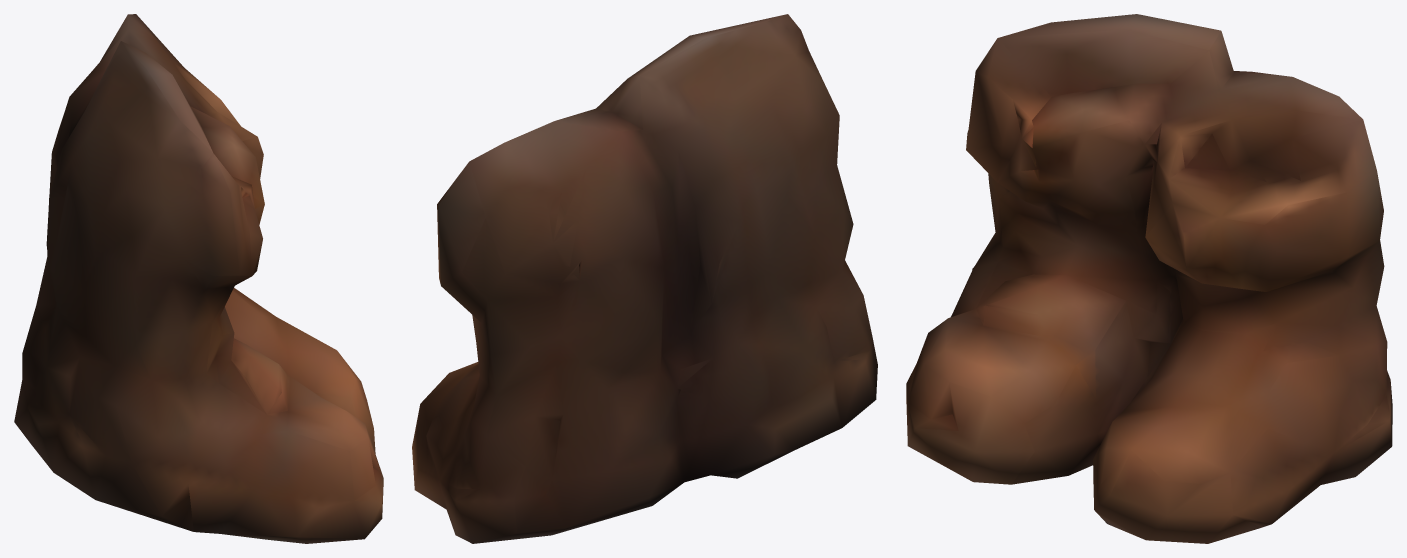
The model's file is boots_leather.glb.
The picture shows the model from 3 angles, left to right: view 1: azimuth 30°, elevation 25°; view 2: azimuth 150°, elevation 25°; view 3: azimuth 270°, elevation 25°; orthographic projection. The views are drawn at different scales.
Visible parts, largest first — view 1: model; view 2: model; view 3: model.
Part boxes in pixels (bbox=[...]): model: bbox=[14, 14, 383, 543]; model: bbox=[412, 14, 877, 543]; model: bbox=[906, 14, 1392, 543].
Size of the model in its own units: 0.3089 by 0.3729 by 0.3889.
Materials: 1 (1 with a texture image).
